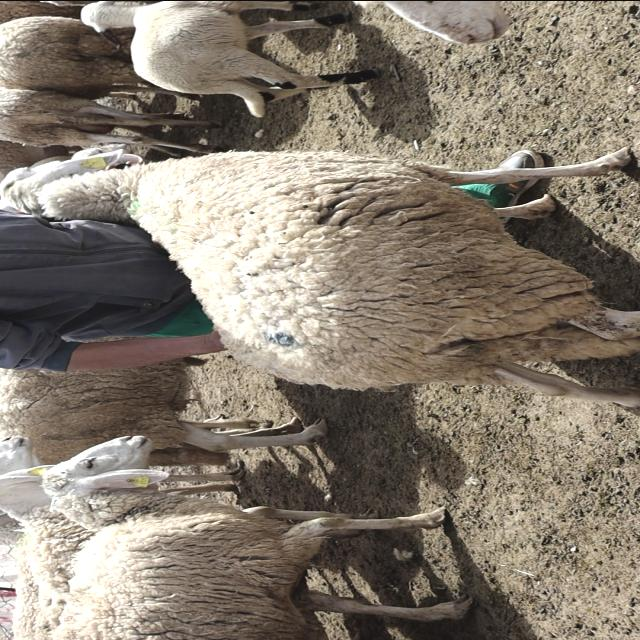Score_3: (0, 147, 639, 406)
